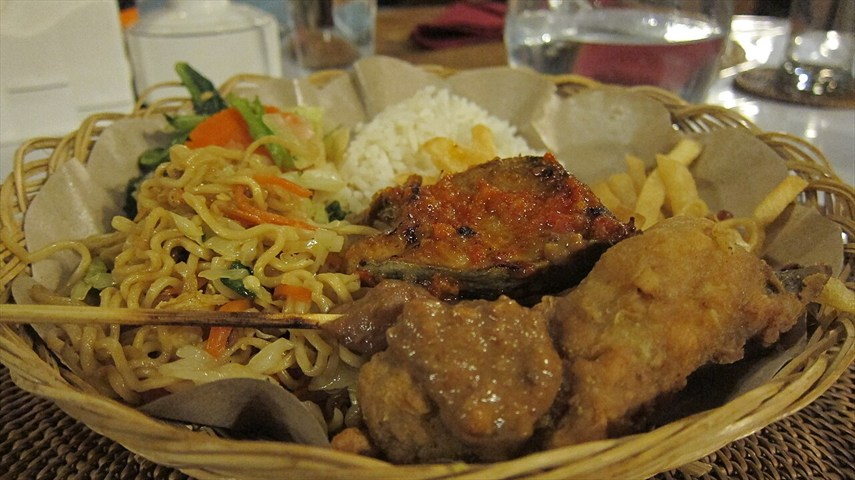Ayam Goreng: (104, 11, 831, 457)
